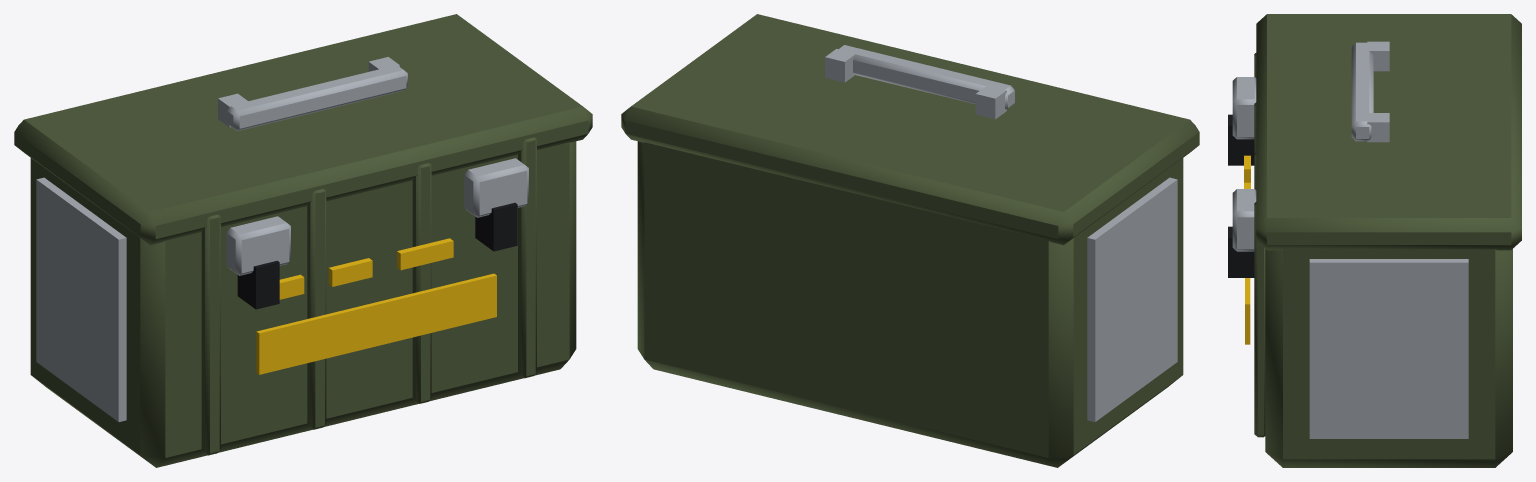
File: crate_ammo_box.glb
The picture shows the model from 3 angles, left to right: view 1: azimuth 30°, elevation 25°; view 2: azimuth 150°, elevation 25°; view 3: azimuth 270°, elevation 25°; orthographic projection. The views are drawn at different scales.
Parts seen in each view (by area): view 1: crate_ammo_box; view 2: crate_ammo_box; view 3: crate_ammo_box.
Part boxes in pixels (x1,y1,x2,y2): crate_ammo_box: [14, 14, 592, 467]; crate_ammo_box: [621, 14, 1199, 467]; crate_ammo_box: [1228, 14, 1521, 467].
Bounding box in the file's own units: 0.57 × 0.3625 × 0.332.
